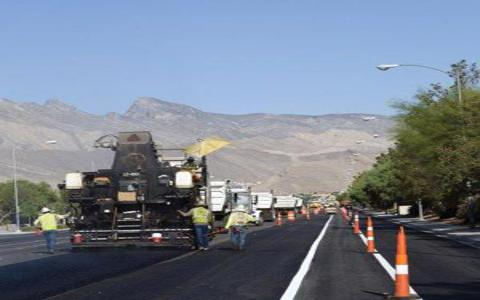Proper road: (4, 249, 167, 293)
